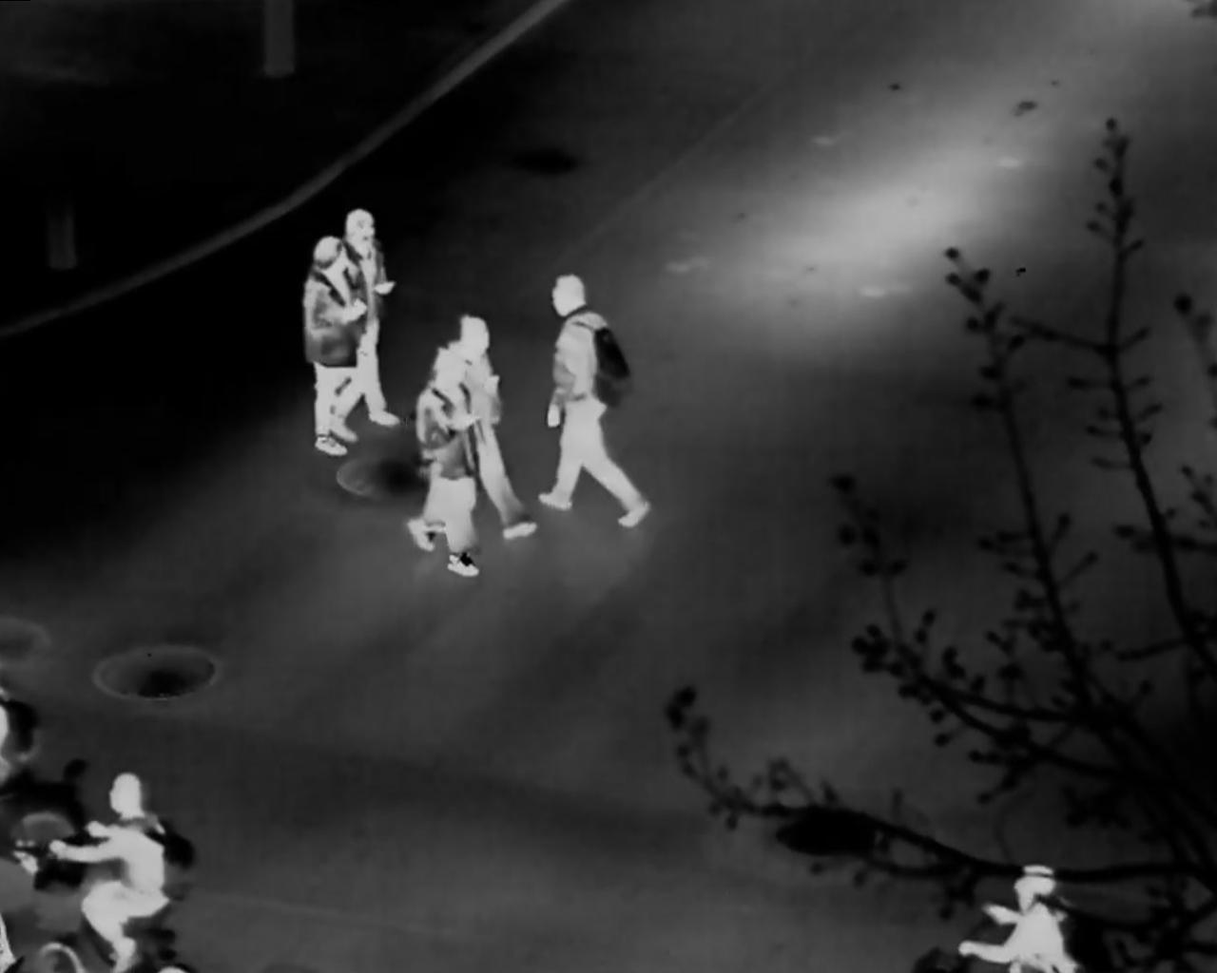person: (45, 771, 195, 973), (538, 272, 653, 527), (447, 312, 535, 540), (407, 346, 483, 577), (302, 235, 366, 456), (953, 863, 1077, 973), (344, 208, 401, 427)
